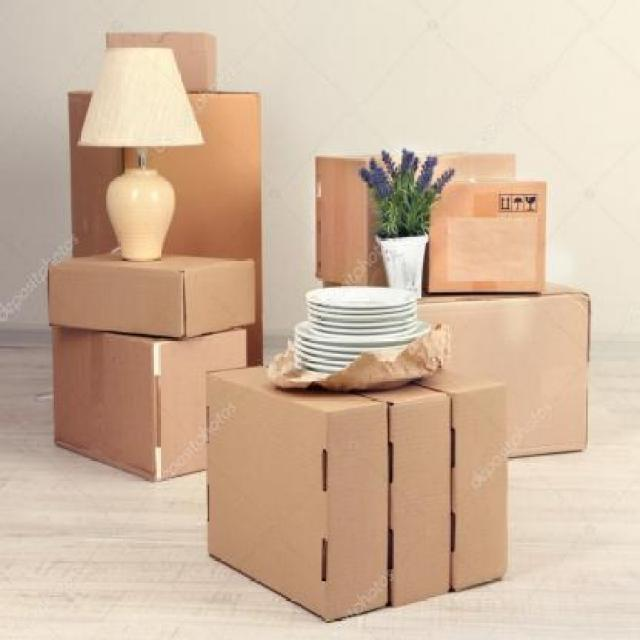box: (70, 87, 266, 368), (203, 366, 384, 622), (47, 317, 253, 481), (408, 281, 593, 458), (313, 150, 520, 284), (404, 370, 508, 593), (359, 383, 449, 608), (44, 248, 260, 336), (426, 178, 546, 292), (102, 23, 220, 91)
